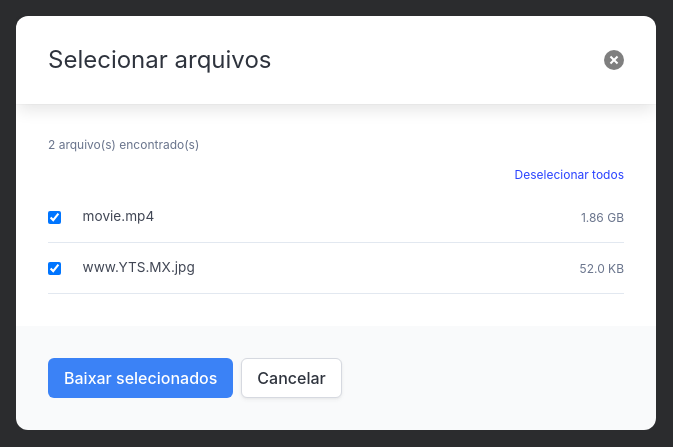
Test: TorrentFilesModal › toggleAll selects all when none are selected
Click the link with class "is-size-7" showing "Deselecionar todos". click: click(569, 175)
box: [514, 166, 624, 184]
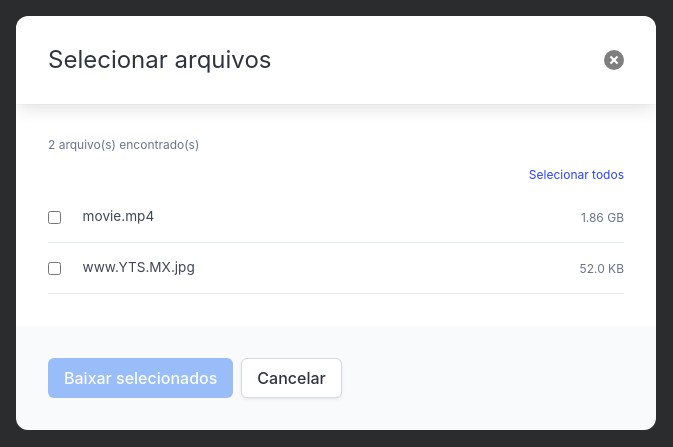
Click the link with class "is-size-7" showing "Selecionar todos". click: click(576, 175)
box: [529, 166, 624, 184]
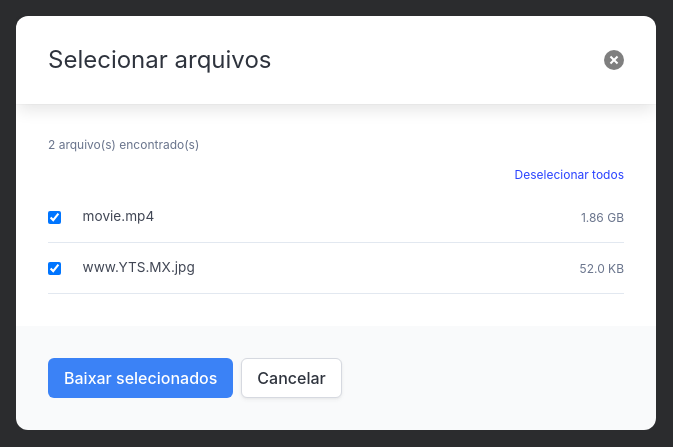
Expected: the checkbox labelled "movie.mp4 1.86 GB" is checked, [48, 210, 61, 224]
Expected: the checkbox labelled "www.YTS.MX.jpg 52.0 KB" is checked, [48, 262, 61, 274]
